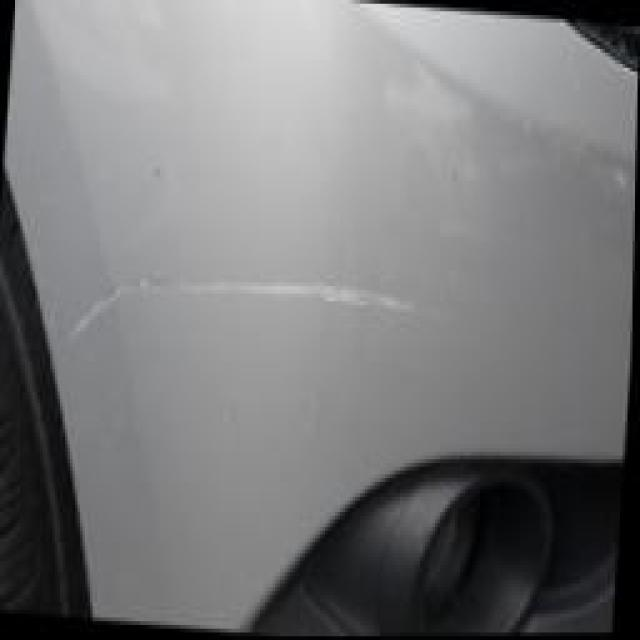Bumper: (48, 215, 456, 425)
